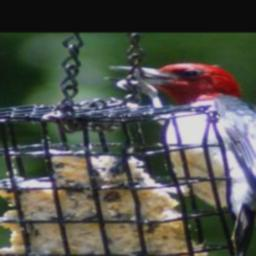Woodpecker: (99, 60, 256, 256)
